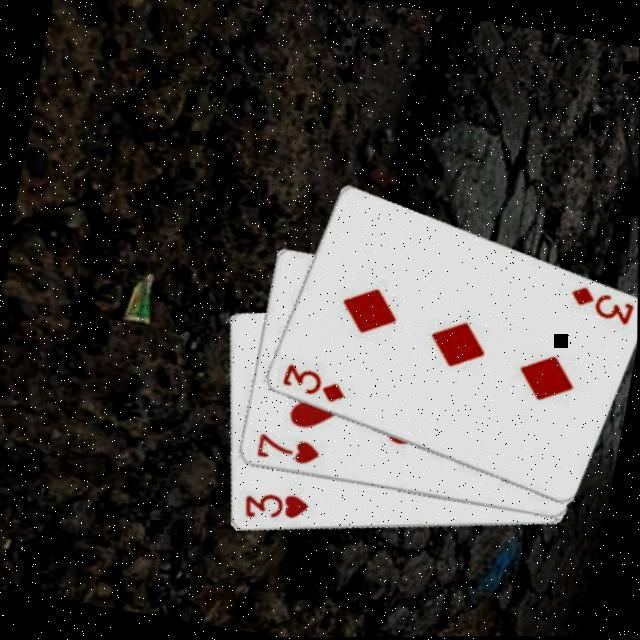3D: (277, 358, 353, 408), (564, 280, 638, 328)
3H: (240, 484, 314, 530)
7H: (253, 429, 325, 469)
